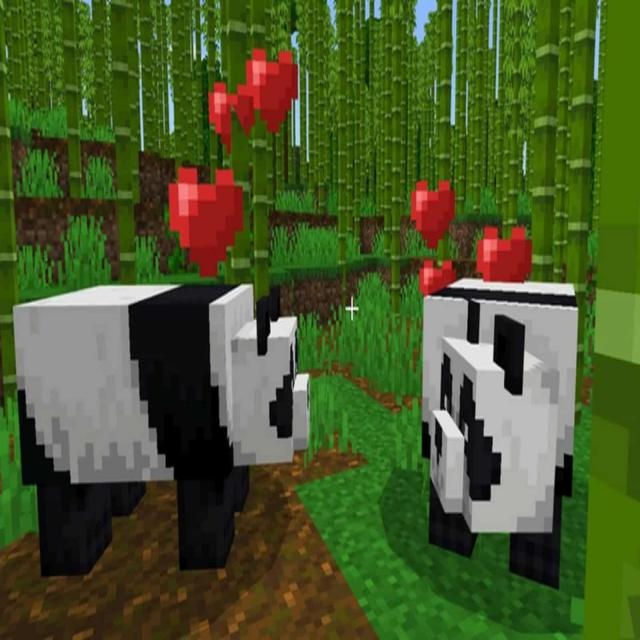Panda: (9, 262, 312, 582), (417, 266, 580, 594)
